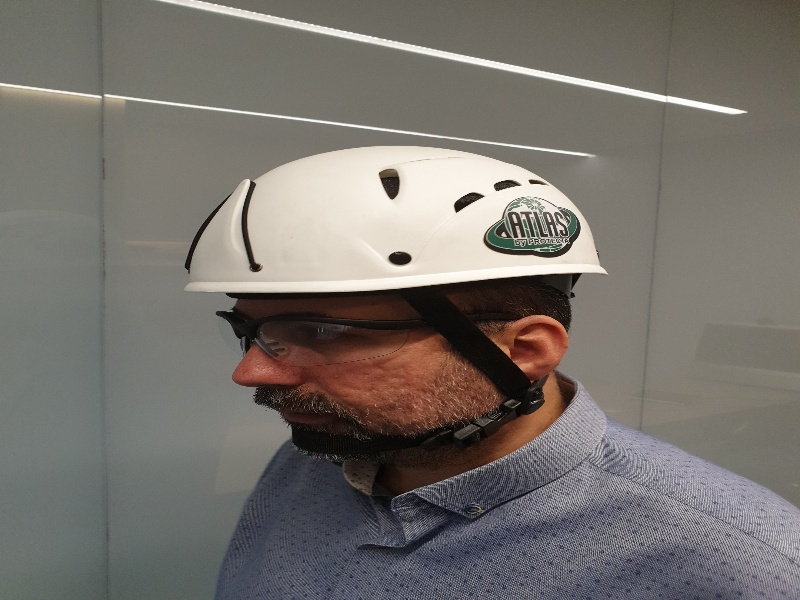Baret: (180, 143, 616, 292)
Gozluk: (217, 308, 520, 360)
